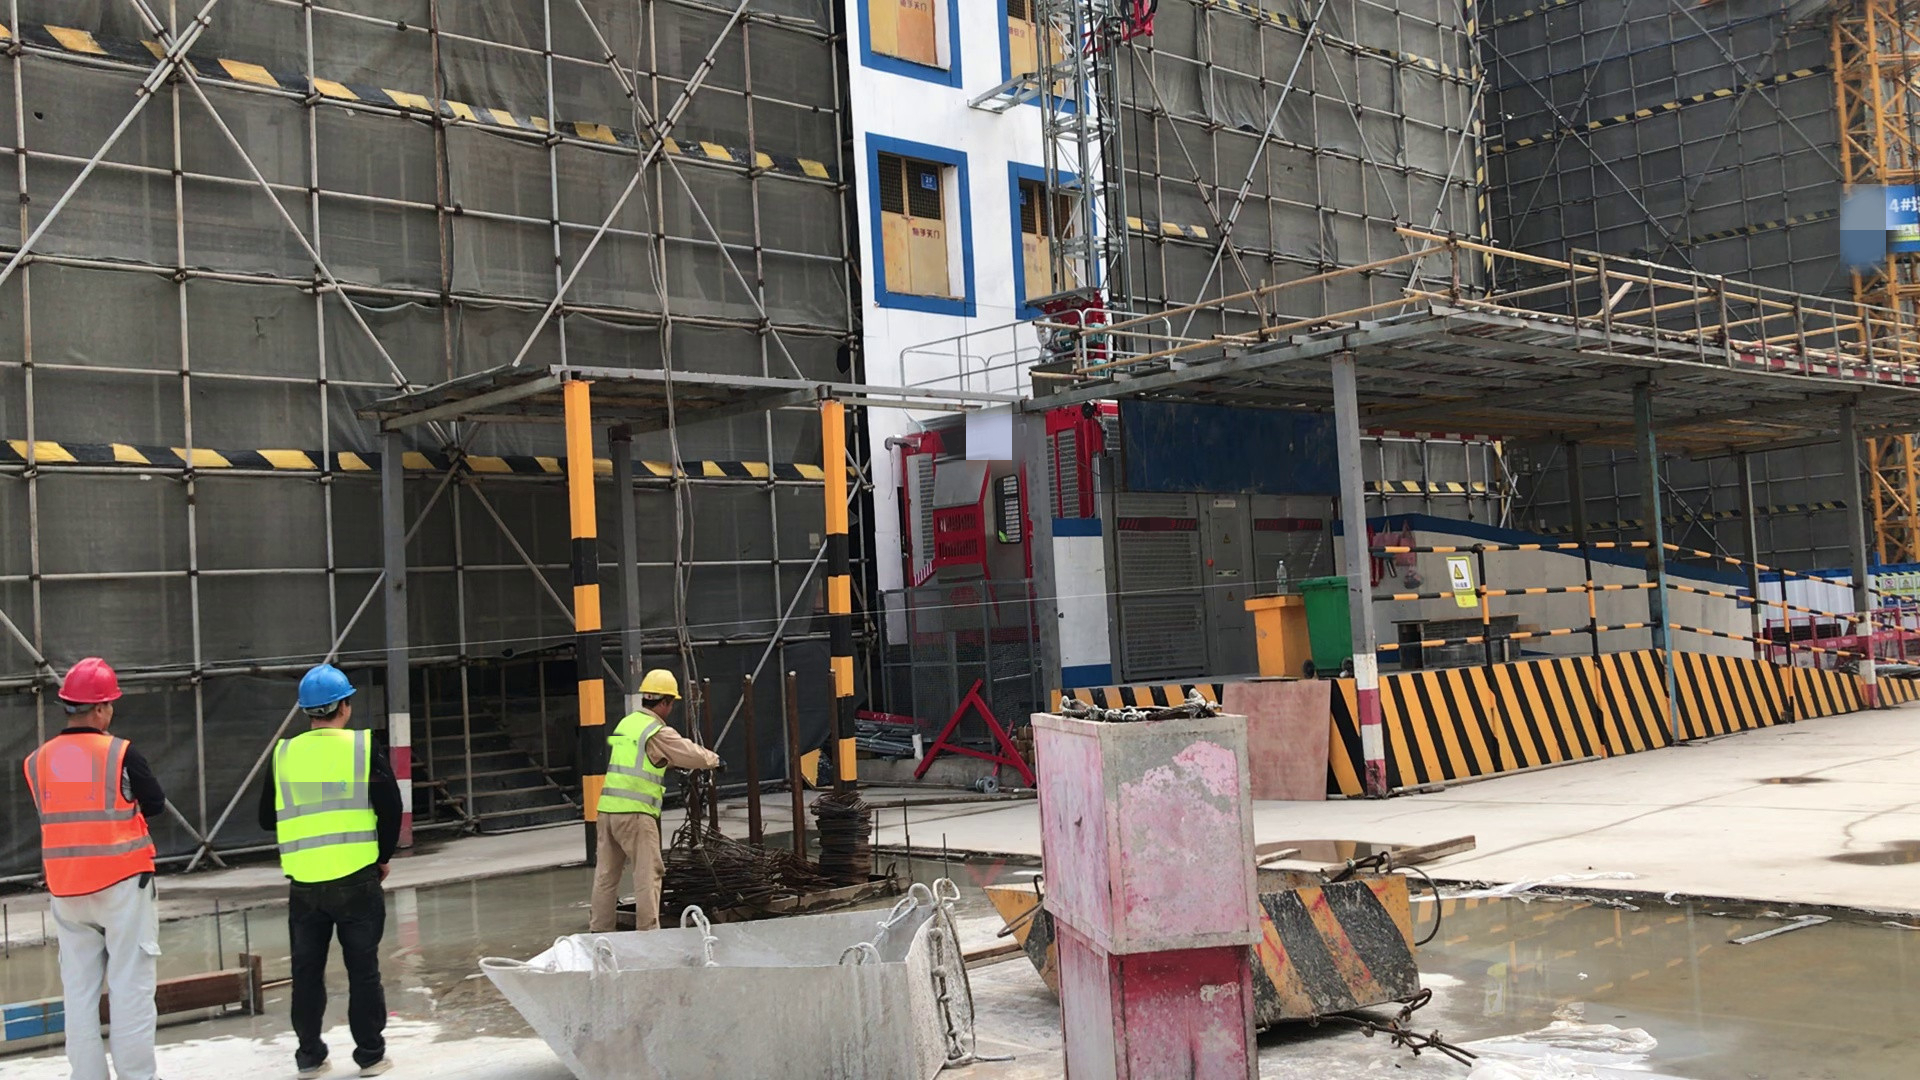fence: (1366, 466, 1915, 667)
helmet: (286, 658, 365, 709), (56, 658, 126, 714), (639, 662, 682, 707)
hopper: (479, 895, 990, 1080), (981, 859, 1442, 1035)
person: (18, 657, 175, 1080), (257, 654, 400, 1080), (582, 662, 719, 930)
slogan: (1444, 543, 1475, 618)
vest: (24, 733, 169, 901), (269, 727, 385, 890), (596, 708, 669, 823)
